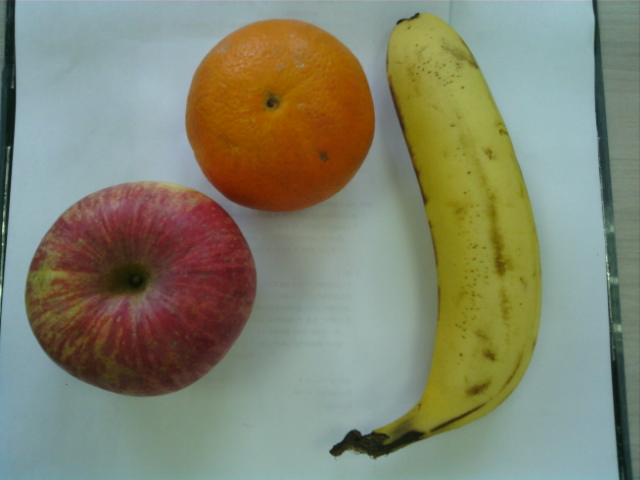normal_apple: (26, 181, 258, 399)
normal_banana: (383, 12, 545, 455)
normal_orange: (184, 16, 375, 212)
